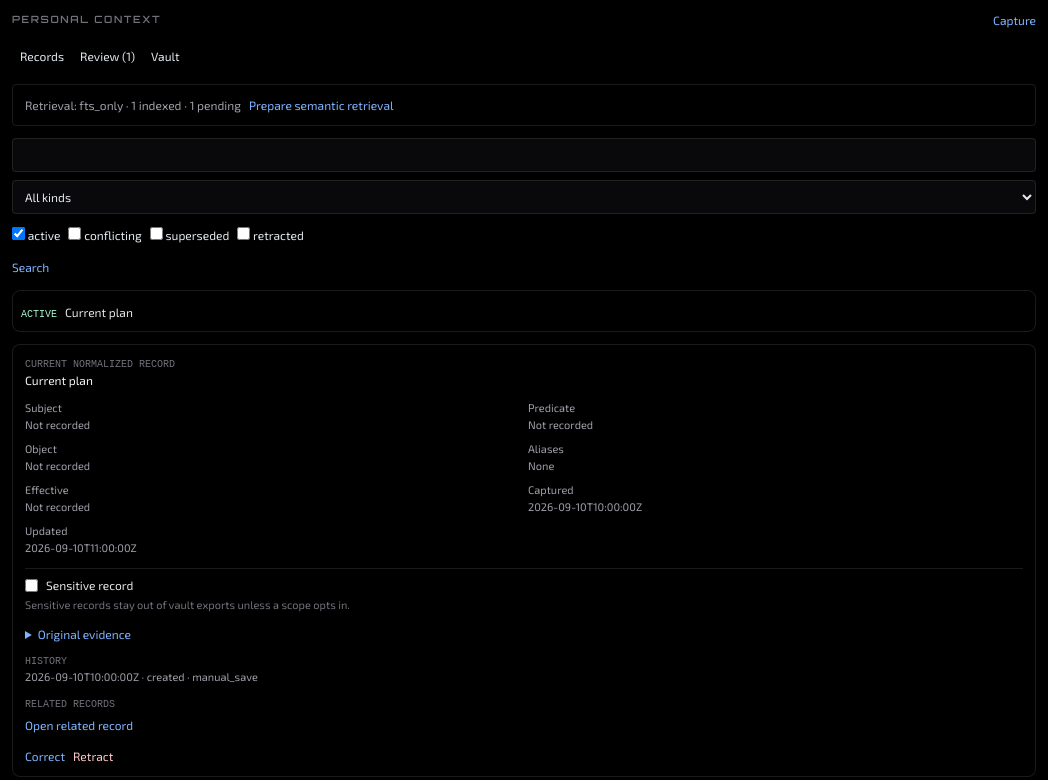
Test: CortexContext › summarizes add_alias proposals without text
Click the tab "Review (1)" at (108, 56), box [72,40,143,72]
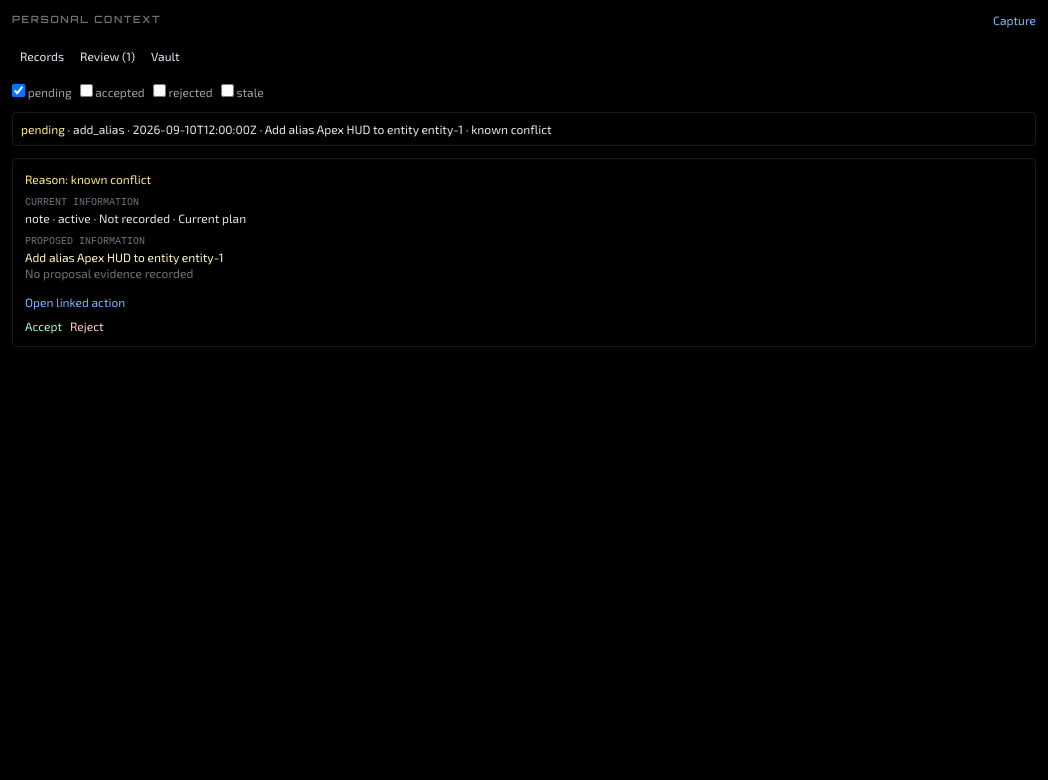
expect the button named "Add alias Apex HUD to entity entity-1" is shown: met, box [12,112,1036,146]
expect the text "Add alias Apex HUD to entity entity-1" is shown: met, box [25,250,223,264]
expect the text "No proposal evidence recorded" is shown: met, box [25,266,193,280]
